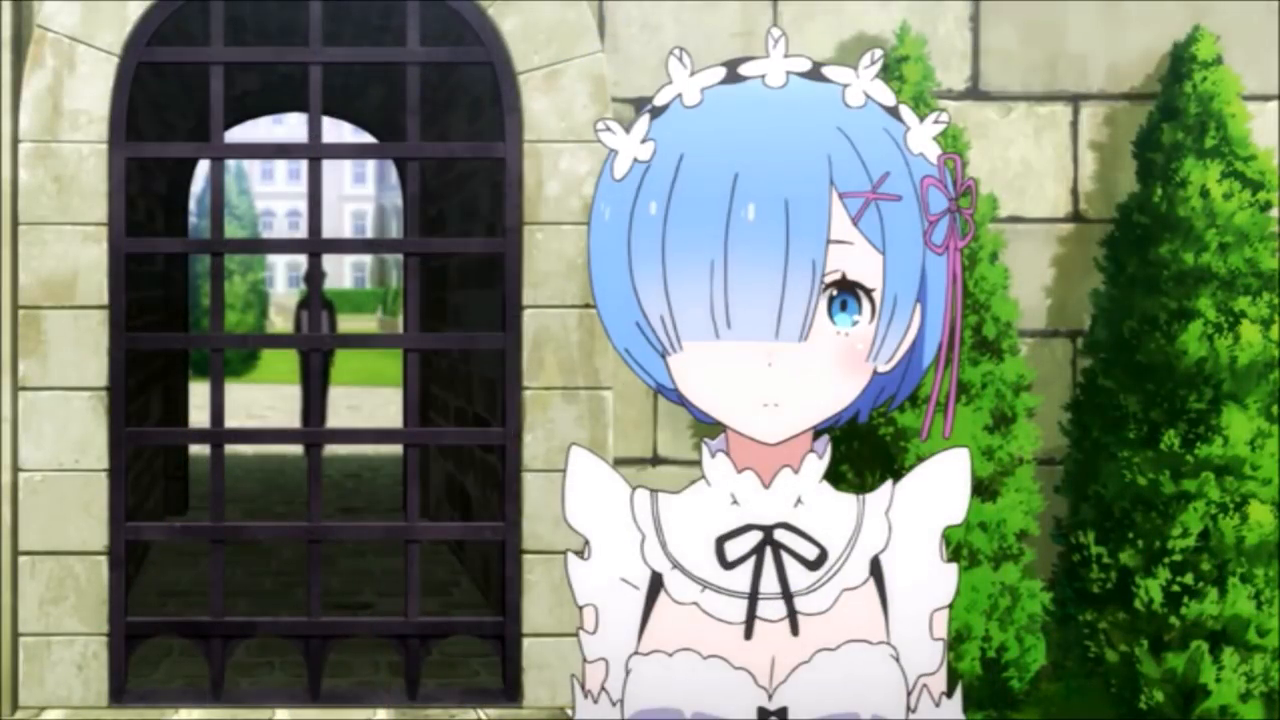REM: (564, 31, 992, 478)
